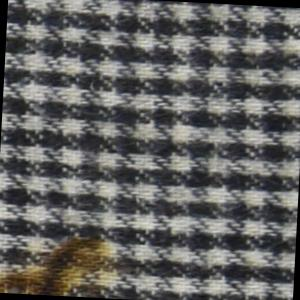Damage: (1, 243, 107, 299)
Oil Stain: (1, 225, 119, 299)
